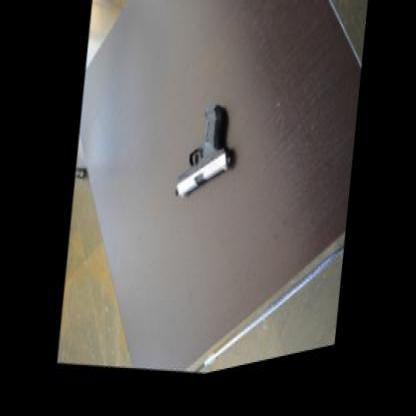pistol: (170, 99, 236, 216)
